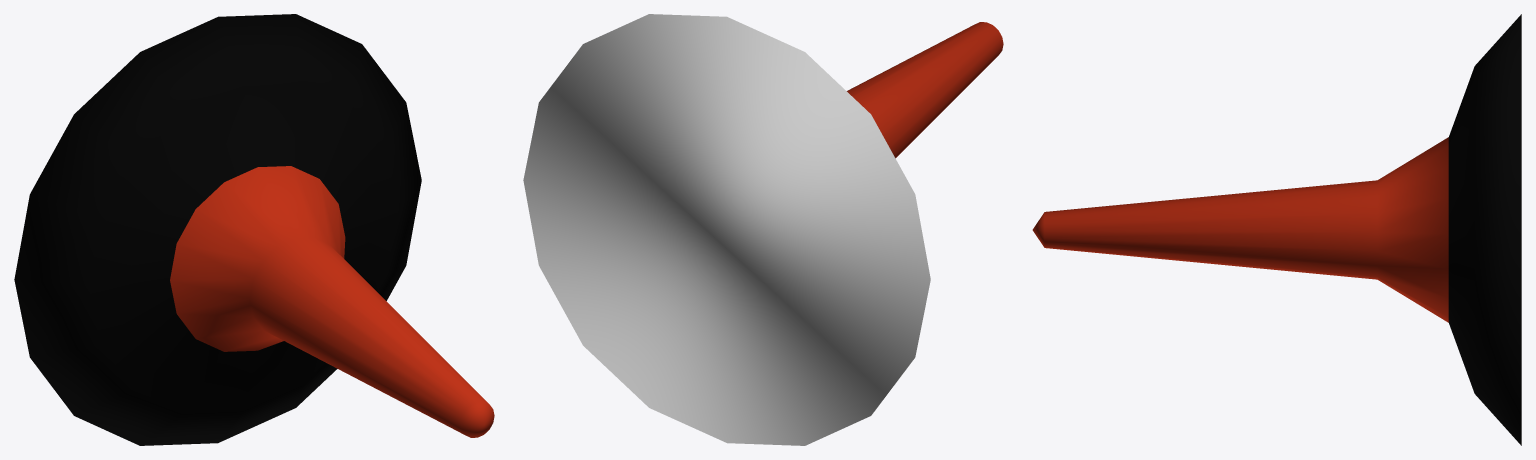
Rendered from top.fbx.
The picture shows the model from 3 angles, left to right: view 1: azimuth 30°, elevation 25°; view 2: azimuth 150°, elevation 25°; view 3: azimuth 270°, elevation 25°; orthographic projection. The views are drawn at different scales.
Parts seen in each view (by area): view 1: top; view 2: top; view 3: top.
Boxes of the visible parts, box(x1,y1,x2,y2) form: top: box(14, 14, 494, 445); top: box(523, 14, 1003, 445); top: box(1032, 14, 1521, 445).
Bounding box in the file's own units: 35.45 × 35.45 × 40.1.
